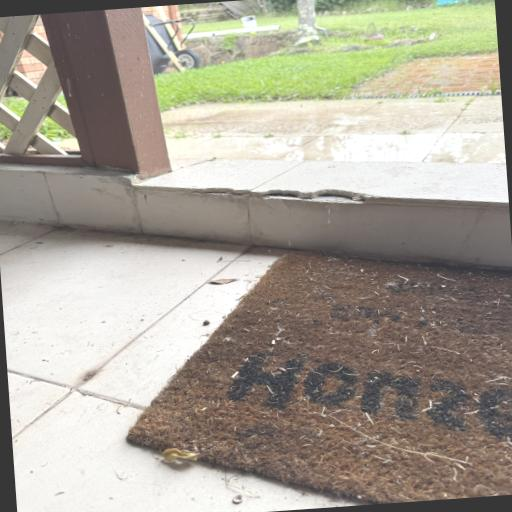step: (135, 159, 512, 268)
